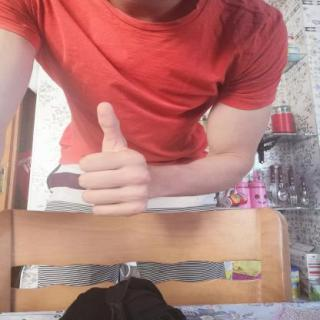ALIF: (67, 94, 160, 224)
